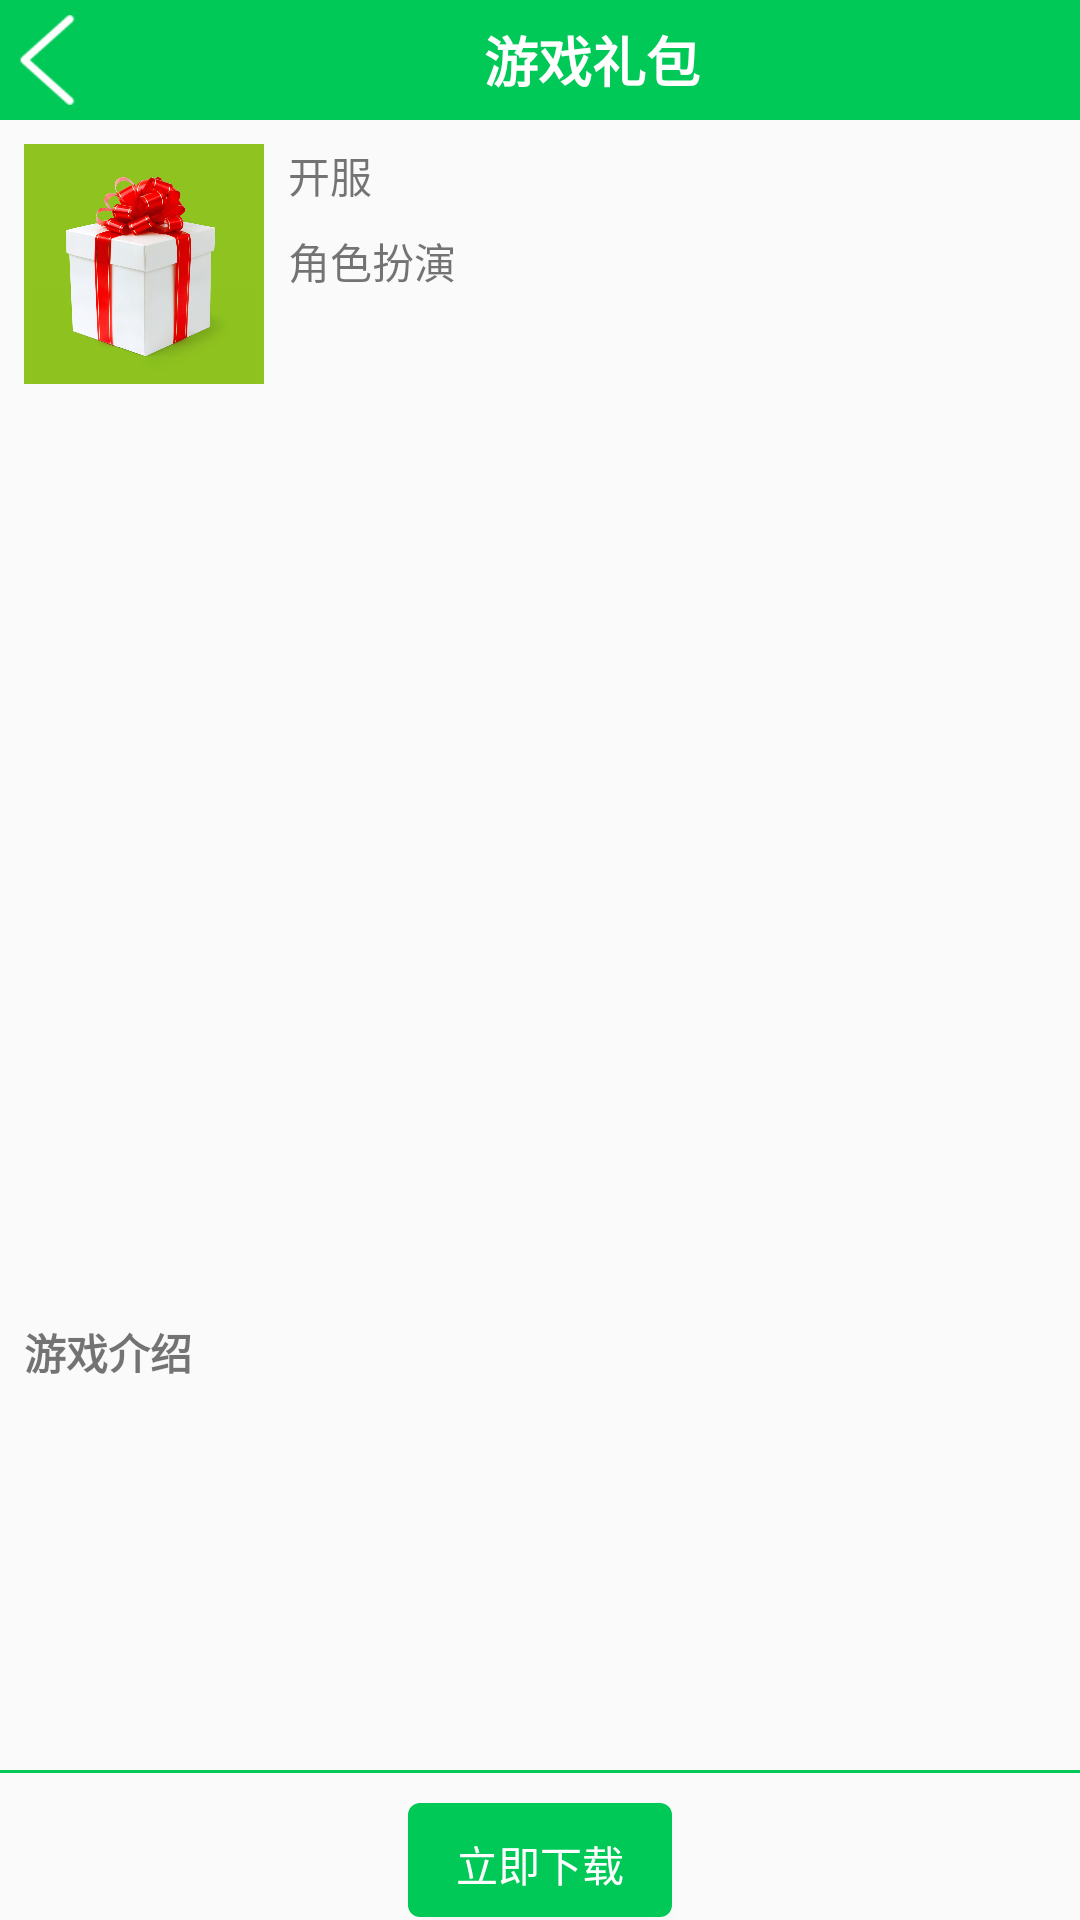

Named icons in this screenshot (1080×1920) and their bounding boxes, (x1, y1, x2, y2):
back: (20, 15, 75, 105)
gift: (24, 144, 264, 384)
